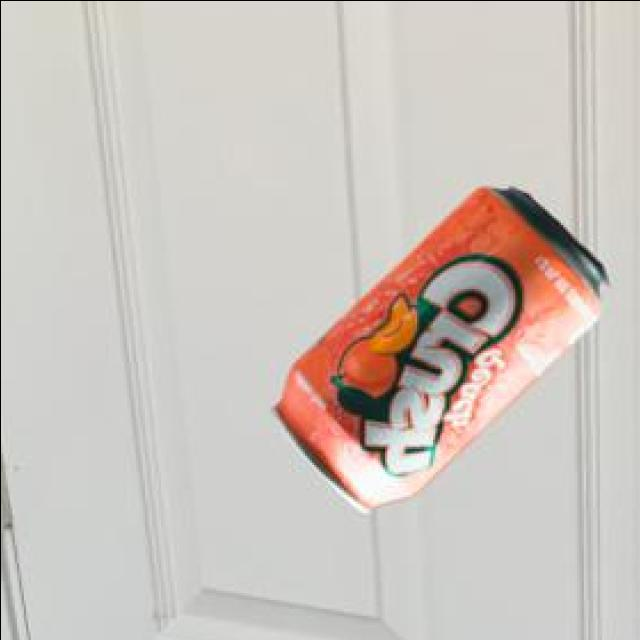logam: (273, 184, 611, 511)
